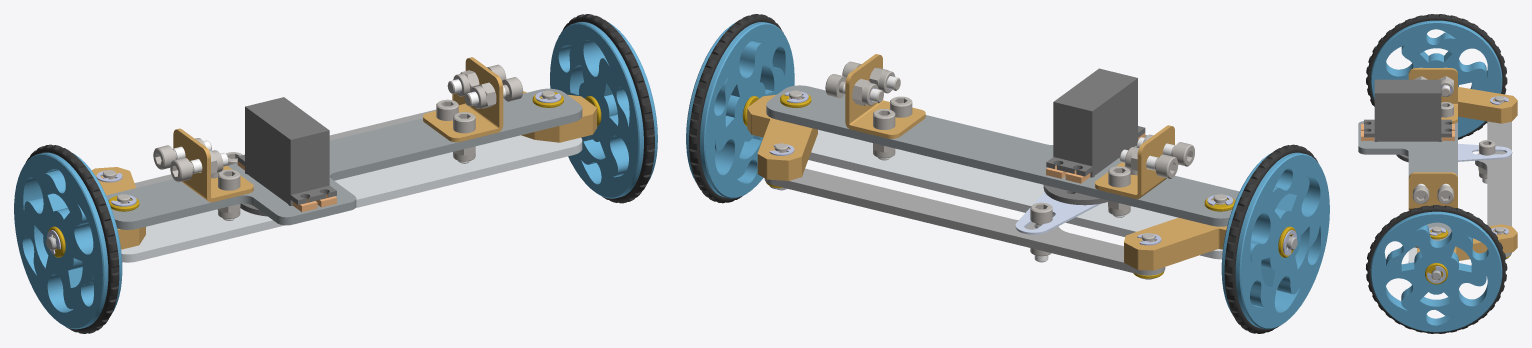
File: TK-SYSTÈME_directionnel.glb
The picture shows the model from 3 angles, left to right: view 1: azimuth 30°, elevation 25°; view 2: azimuth 150°, elevation 25°; view 3: azimuth 270°, elevation 25°; orthographic projection. The views are drawn at different scales.
Parts seen in each view (by area): view 1: TK-SD 5 - ROUE avec motif-1 (×2), TK-SD 0 BATI_SECOND-1, TK-SD 0 - BATI-2, TK-servo moteur Hitec HS-645MG-1, TK-pneu_robot-1 (×2), TK-SD 2 - PIVOT-ROUE-1 (×2), TK-equerre-1, TK-equerre-2, TK-1-PALONNIER V2-2, TK-VisCHC-M6-20-3, TK-VisCHC-M6-20-4, TK-VisCHC-M6-20-1 (+3 smaller); view 2: TK-SD 5 - ROUE avec motif-1 (×2), TK-SD 0 BATI_SECOND-1, TK-SD 0 - BATI-2, TK-1-PALONNIER V2-2, TK-servo moteur Hitec HS-645MG-1, TK-SD 2 - PIVOT-ROUE-1 (×2), TK-pneu_robot-1 (×2), TK-equerre-1, TK-equerre-2, TK-SD 4 - cerveau moteur-attache-3, TK-VisCHC-M6-20-4, TK-VisCHC-M6-20-2 (+5 smaller); view 3: TK-SD 5 - ROUE avec motif-1 (×2), TK-servo moteur Hitec HS-645MG-1, TK-pneu_robot-1 (×2), TK-SD 0 BATI_SECOND-1, TK-1-PALONNIER V2-2, TK-SD 2 - PIVOT-ROUE-1 (×2), TK-equerre-1, TK-equerre-2, TK-SD 4 - cerveau moteur-attache-3, TK-VisCHC-M6-20-1, TK-VisCHC-M6-20-2, TK-VisCHC-M6-20-5 (+4 smaller).
Part boxes in pixels (x1,y1,x2,y2): TK-SD 5 - ROUE avec motif-1 (×2): (14,22,657,329); TK-SD 0 BATI_SECOND-1: (106,88,582,229); TK-SD 0 - BATI-2: (121,135,582,262); TK-servo moteur Hitec HS-645MG-1: (238,97,336,216); TK-pneu_robot-1 (×2): (25,14,654,333); TK-SD 2 - PIVOT-ROUE-1 (×2): (92,91,596,249); TK-equerre-1: (423,57,503,142); TK-equerre-2: (173,128,253,202); TK-1-PALONNIER V2-2: (134,109,436,187); TK-VisCHC-M6-20-3: (170,152,228,182); TK-VisCHC-M6-20-4: (153,140,211,169); TK-VisCHC-M6-20-1: (464,77,523,106); TK-SD 5 - ROUE avec motif-1 (×2): (686,22,1329,329); TK-SD 0 BATI_SECOND-1: (766,85,1239,226); TK-SD 0 - BATI-2: (808,129,1222,259); TK-1-PALONNIER V2-2: (764,168,1165,275); TK-servo moteur Hitec HS-645MG-1: (1043,68,1145,205); TK-SD 2 - PIVOT-ROUE-1 (×2): (747,94,1227,270); TK-pneu_robot-1 (×2): (689,14,1318,333); TK-equerre-1: (845,54,925,138); TK-equerre-2: (1095,125,1174,199); TK-SD 4 - cerveau moteur-attache-3: (1015,192,1101,234); TK-VisCHC-M6-20-4: (1119,149,1178,178); TK-VisCHC-M6-20-2: (825,74,883,103); TK-SD 5 - ROUE avec motif-1 (×2): (1370,20,1502,332); TK-servo moteur Hitec HS-645MG-1: (1364,79,1451,162); TK-pneu_robot-1 (×2): (1366,14,1507,333); TK-SD 0 BATI_SECOND-1: (1358,121,1457,248); TK-1-PALONNIER V2-2: (1475,121,1511,257); TK-SD 2 - PIVOT-ROUE-1 (×2): (1417,87,1517,260); TK-equerre-1: (1408,172,1457,210); TK-equerre-2: (1408,68,1457,123); TK-SD 4 - cerveau moteur-attache-3: (1458,143,1512,161); TK-VisCHC-M6-20-1: (1412,183,1429,203); TK-VisCHC-M6-20-2: (1437,183,1453,203); TK-VisCHC-M6-20-5: (1479,140,1495,183).
Bounding box in the file's own units: 0.2946 × 0.086 × 0.097.
